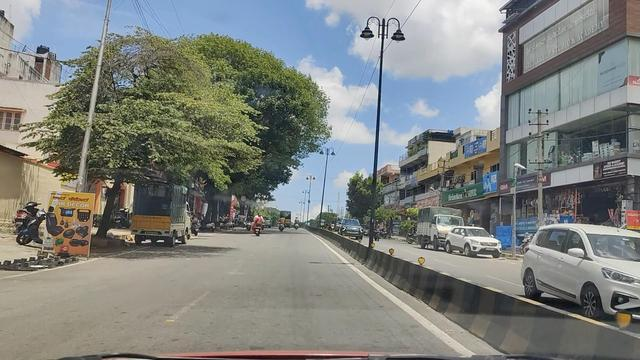HMV: (127, 180, 189, 243)
